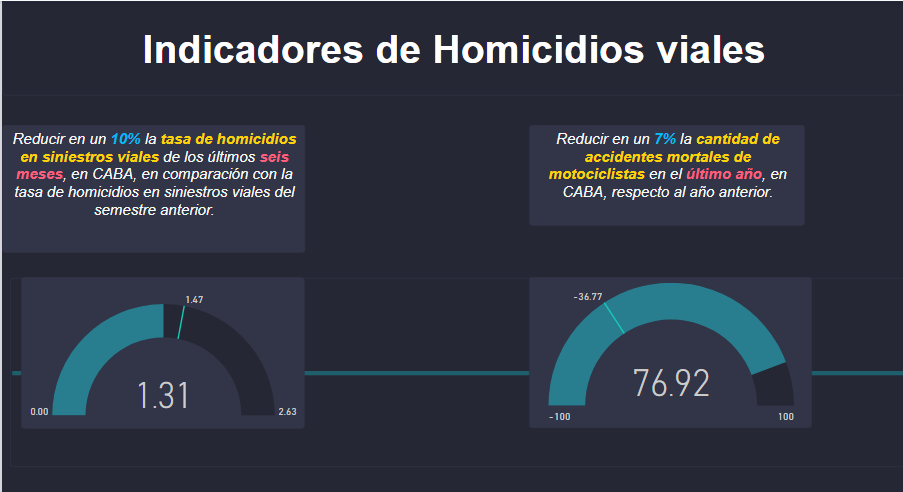

The dashboard page shown, as its layout file describes it:
{"tool":"powerbi","page":{"name":"Indicadores KPI","canvas":[1280,720],"ordinal":5},"visuals":[{"type":"textbox","box":[0,176.1,429.6,181.3],"z":0},{"type":"shape","box":[0,0,1280,134.4],"z":3000},{"type":"shape","box":[11.3,392.6,1268.5,267.9],"z":4000},{"type":"gauge","fields":{"Y":["Medidas.TasaHomicidiosSegundoSemestre"],"TargetValue":["Medidas.TasaHomicObjetivo"]},"box":[27.2,391.9,401.9,214.5],"z":5000},{"type":"gauge","fields":{"Y":["KPI2.ReducPorcentualHomicMotos20-21"],"TargetValue":["KPI2.TasaHomicMotoObjetivo"],"MinValue":["KPI2.MinMotos"],"MaxValue":["KPI2.MaxMotos"]},"box":[746.9,391.2,401.1,214],"z":6000},{"type":"textbox","box":[746.9,175.7,391.2,143.1],"z":6001}]}

Visuals, with their boxes on the page's 1280x720 design canvas (x1, y1, x2, y2). These are canvas units, not pixel positions in the 903x492 screenshot, which may show the page scaled, cropped or inside an application window:
textbox: [0, 176, 430, 357]
shape: [0, 0, 1280, 134]
shape: [11, 393, 1280, 660]
gauge - Medidas.TasaHomicidiosSegundoSemestre x Medidas.TasaHomicObjetivo: [27, 392, 429, 606]
gauge - KPI2.ReducPorcentualHomicMotos20-21 x KPI2.TasaHomicMotoObjetivo: [747, 391, 1148, 605]
textbox: [747, 176, 1138, 319]
